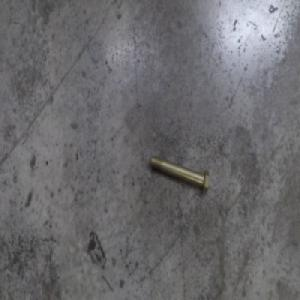Bolt: (149, 152, 210, 195)
